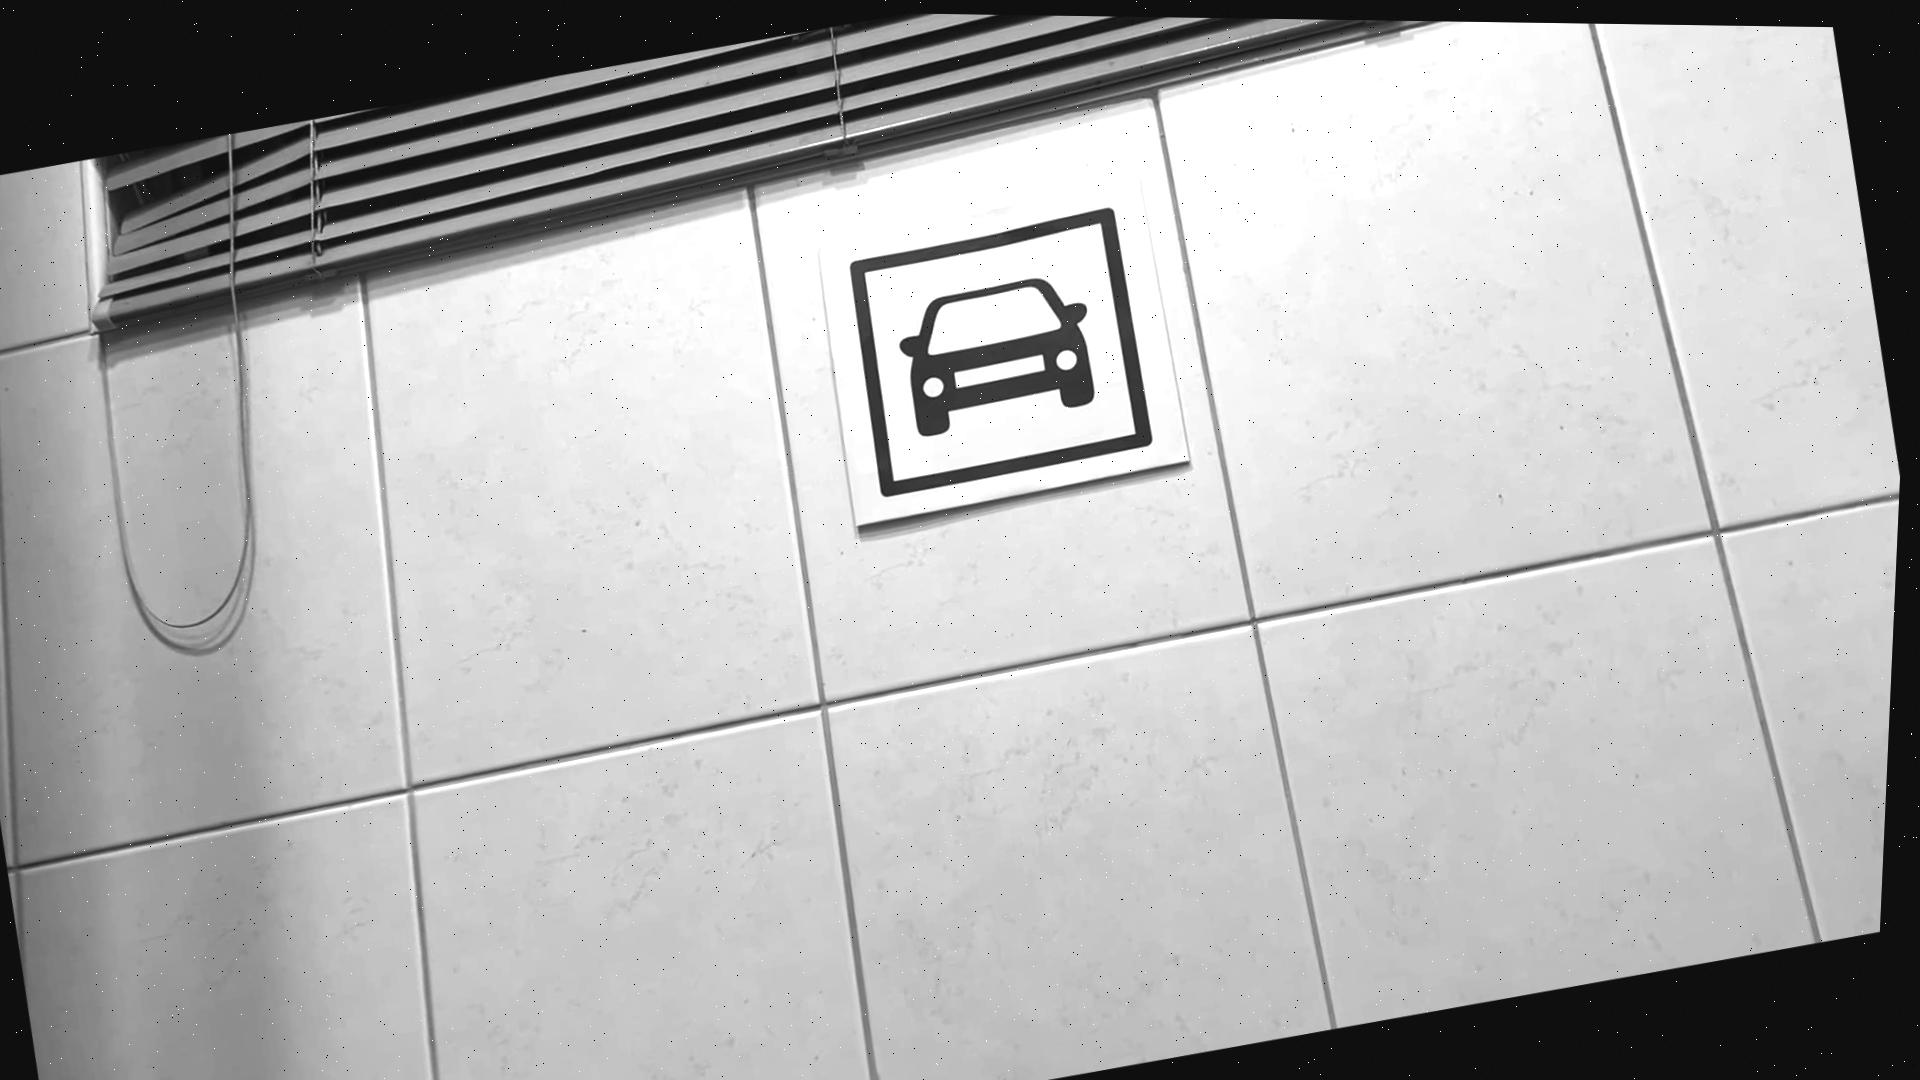car_img: (833, 193, 1174, 505)
